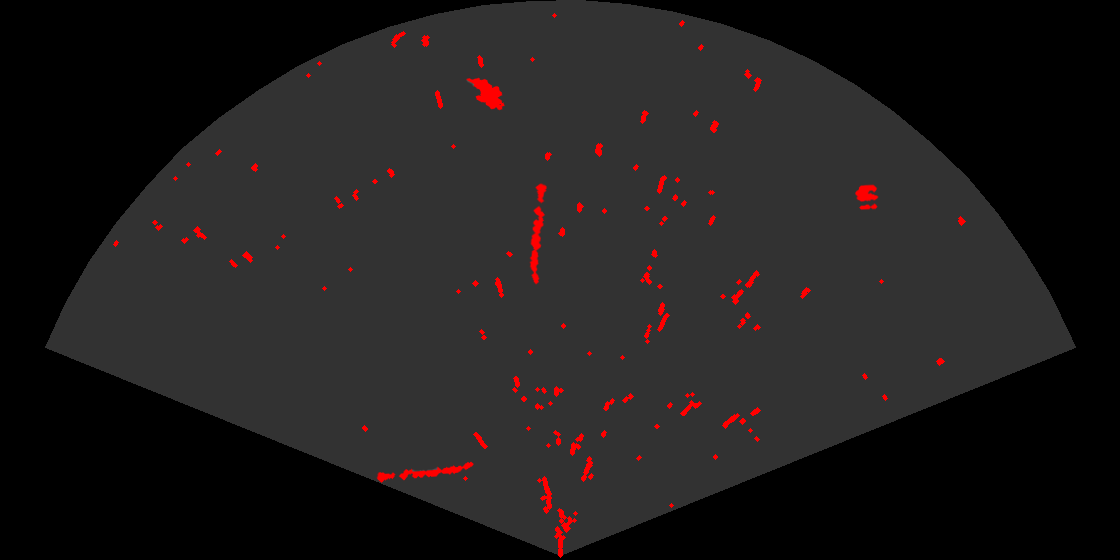AUV: (465, 76, 506, 112)
ball: (854, 183, 880, 212)
chain: (374, 460, 475, 484), (528, 182, 548, 286)
